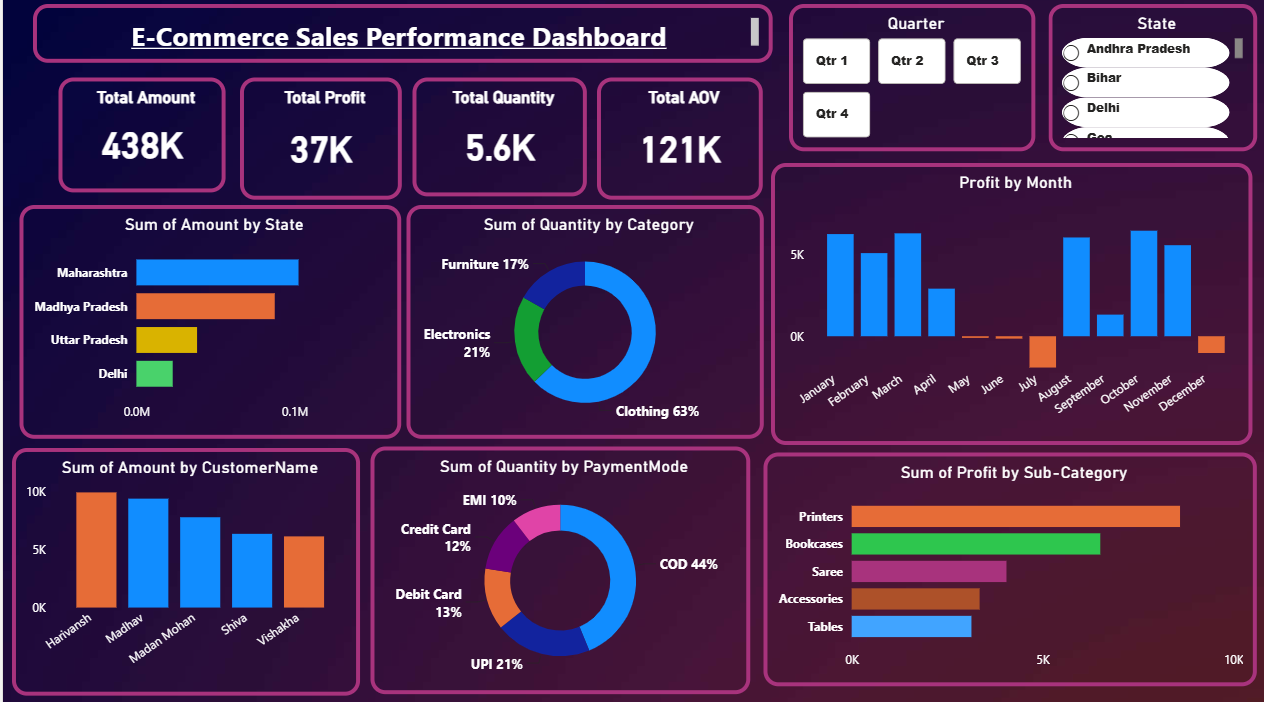

Layout of this report page (visuals, bound fields, positions):
{"tool":"powerbi","page":{"name":"Page 1","canvas":[1280,720],"ordinal":0},"visuals":[{"type":"textbox","box":[29.7,12.2,746.5,59.1],"z":0},{"type":"columnChart","title":"Profit by Month","fields":{"Y":["Sum(Details.Profit)"],"Category":["Orders.Order Date.Variation.Date Hierarchy.Month"]},"box":[774.5,173,486.1,284.7],"z":1000},{"type":"barChart","fields":{"Category":["Details.Sub-Category"],"Y":["Sum(Details.Profit)"]},"box":[767.7,464.9,498.2,236.2],"z":2000},{"type":"donutChart","fields":{"Category":["Details.Category"],"Y":["Sum(Details.Quantity)"]},"box":[407.3,215,360.4,236.2],"z":3000},{"type":"donutChart","fields":{"Category":["Details.PaymentMode"],"Y":["Sum(Details.Quantity)"]},"box":[371,458.8,383.1,249.8],"z":4000},{"type":"barChart","fields":{"Y":["Sum(Details.Amount)"],"Category":["Orders.State"]},"box":[17,215.4,385.5,236.2],"z":9000},{"type":"columnChart","fields":{"Category":["Orders.CustomerName"],"Y":["Sum(Details.Amount)"]},"box":[9.5,459.6,351.4,250.1],"z":10000},{"type":"advancedSlicerVisual","fields":{"Values":["Orders.Order Date.Variation.Date Hierarchy.Quarter"]},"box":[793.5,12.2,248.7,148.7],"z":11000},{"type":"listSlicer","fields":{"Values":["Orders.State"]},"box":[1055.7,12.2,210.9,148.7],"z":12000},{"type":"card","fields":{"Values":["Sum(Details.AOV)"]},"box":[600.2,86.5,167.6,123],"z":12001},{"type":"card","fields":{"Values":["Sum(Details.Quantity)"]},"box":[413.6,86.5,175.7,120.3],"z":12002},{"type":"card","fields":{"Values":["Sum(Details.Profit)"]},"box":[239.3,86.5,163.6,123],"z":12003},{"type":"card","fields":{"Values":["Sum(Details.Amount)"]},"box":[55.4,86.5,169,116.2],"z":12004}]}

Visuals, with their boxes in screenshot pixels (x1, y1, x2, y2), scaled from the page's 1280x720 canvas onto the 1264x702 screenshot:
textbox: [29,12,766,70]
"Profit by Month" columnChart: [765,169,1245,446]
barChart - Details.Sub-Category x Sum(Details.Profit): [758,453,1250,684]
donutChart - Details.Category x Sum(Details.Quantity): [402,210,758,440]
donutChart - Details.PaymentMode x Sum(Details.Quantity): [366,447,745,691]
barChart - Sum(Details.Amount) x Orders.State: [17,210,397,440]
columnChart - Orders.CustomerName x Sum(Details.Amount): [9,448,356,692]
advancedSlicerVisual - Orders.Order Date.Variation.Date Hierarchy.Quarter: [784,12,1029,157]
listSlicer - Orders.State: [1043,12,1251,157]
card - Sum(Details.AOV): [593,84,758,204]
card - Sum(Details.Quantity): [408,84,582,202]
card - Sum(Details.Profit): [236,84,398,204]
card - Sum(Details.Amount): [55,84,222,198]
